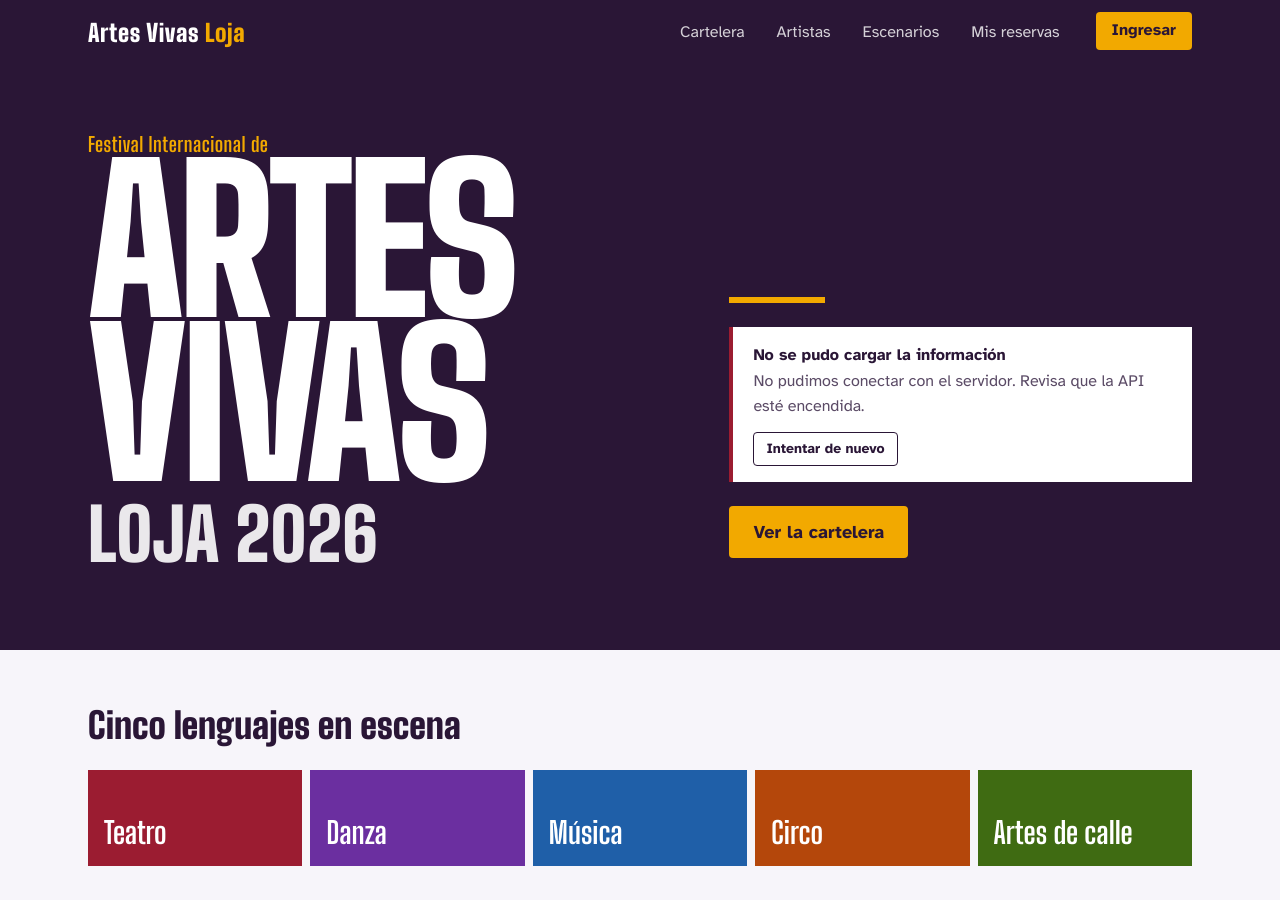
Test: HomePage › muestra un error comprensible y permite reintentar si la API no responde
Expected: the message shows "No pudimos conectar con el servidor", [753, 371, 1144, 416]
Click the button "Intentar de nuevo" at (825, 449), box [753, 432, 898, 466]
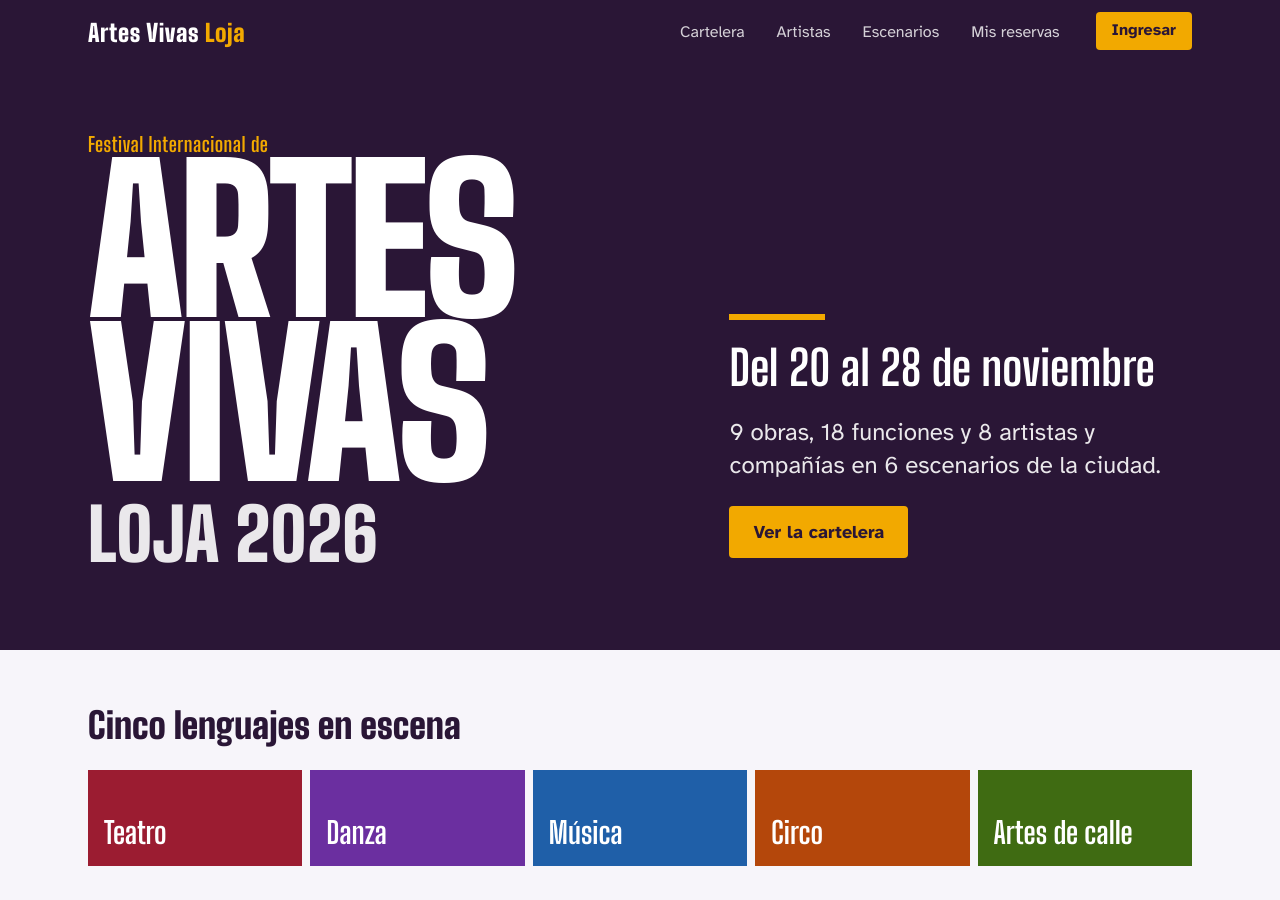
Expected: the text "9 obras" is shown, [729, 417, 809, 447]
